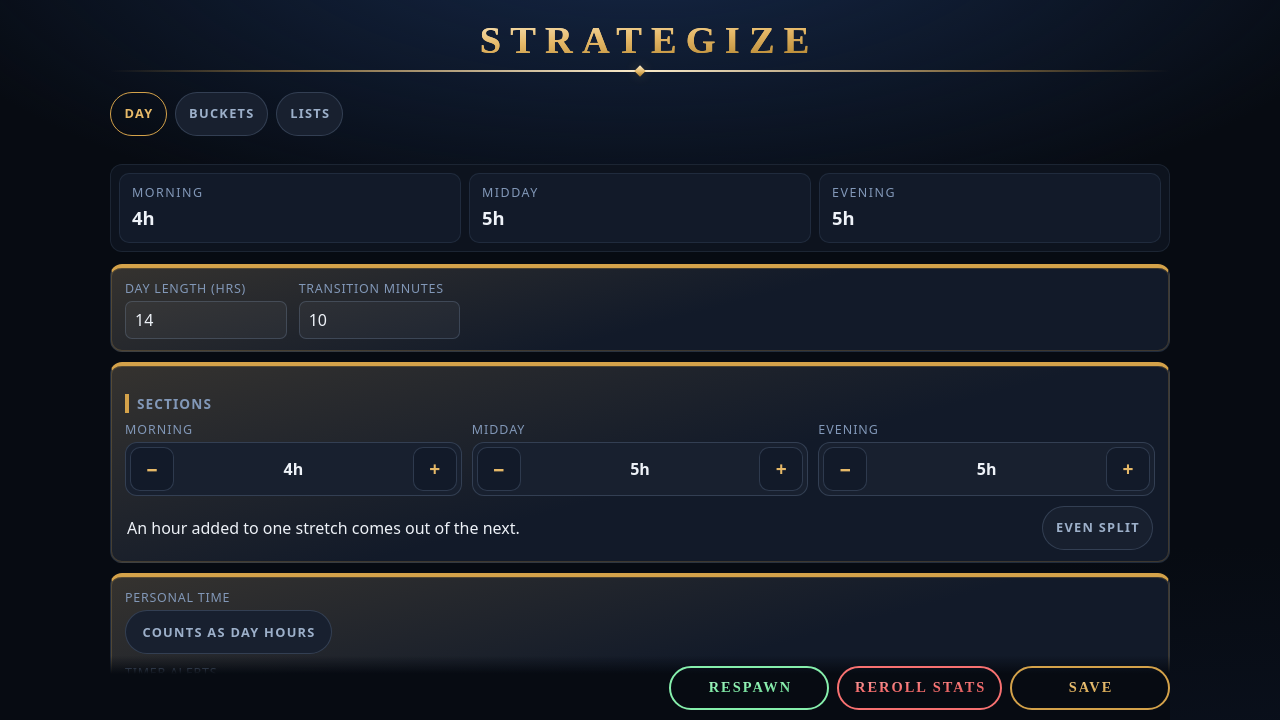
Test case: Edit Lists collapse › keeps list items collapsed by bucket until opened
Click the button "Lists" at [310, 114], box x1=276 y1=92 x2=344 y2=136
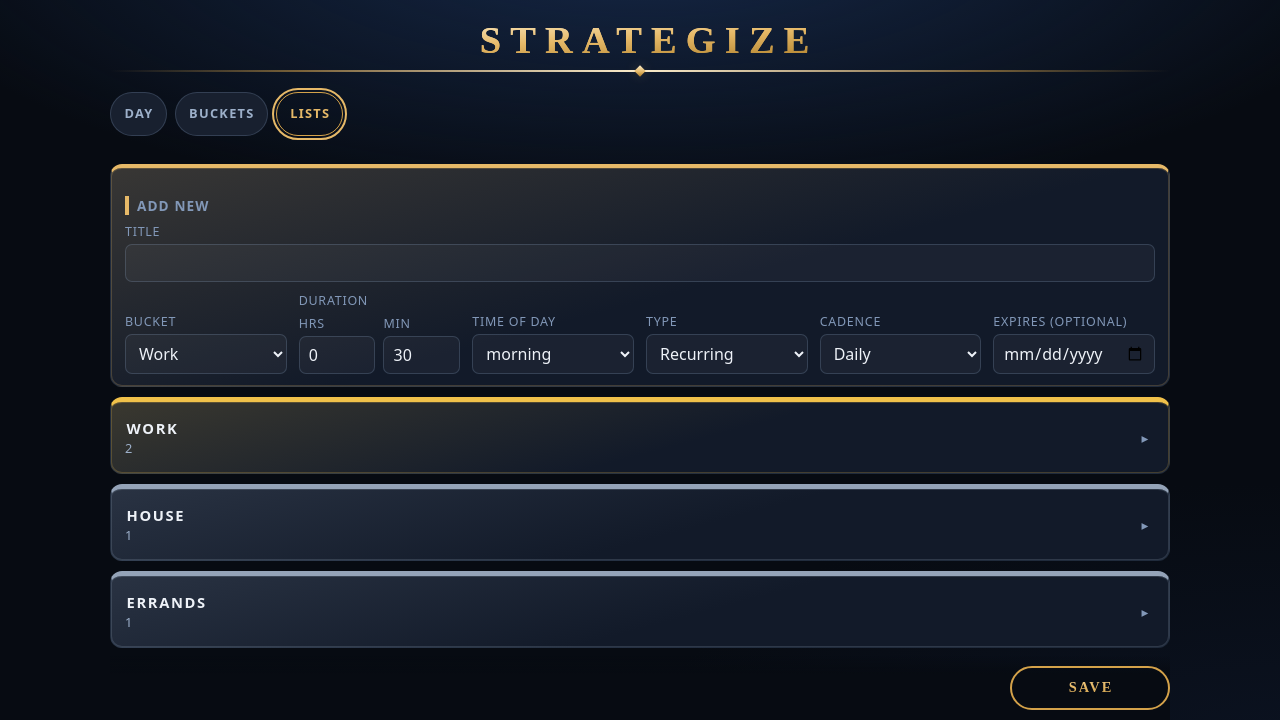
Expected: the field showing "Standup" is not shown
Click the button with aria-label "Work, 2" at [152, 428], box x1=125 y1=414 x2=1155 y2=461
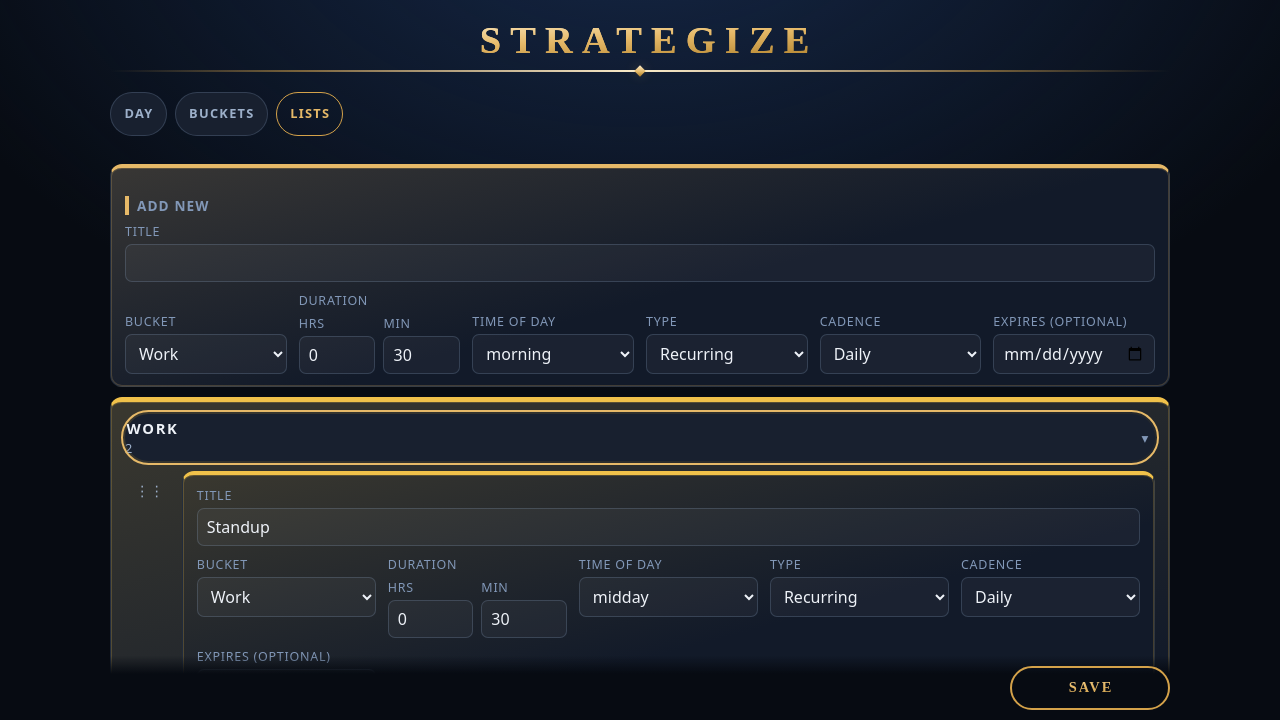
Expected: the button with aria-label "Work, 2" is expanded, x1=125 y1=414 x2=1155 y2=461
Expected: the 2nd field showing "Standup" is shown, x1=197 y1=508 x2=1140 y2=546
